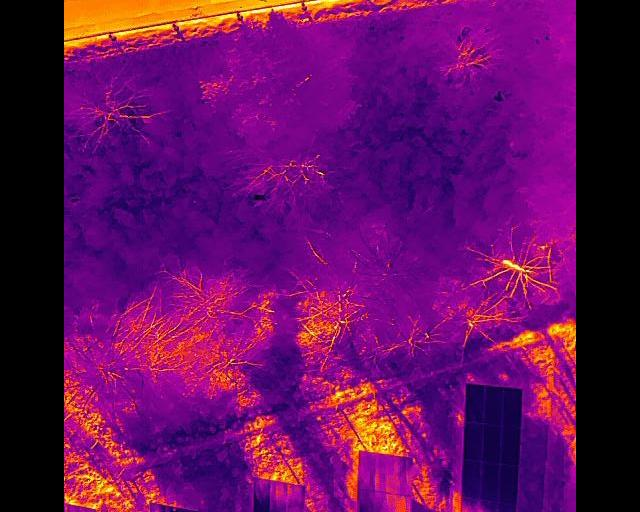Shadowing: (481, 460, 501, 500), (465, 383, 486, 421), (375, 454, 396, 492), (501, 423, 520, 464), (463, 419, 483, 457), (461, 458, 481, 496), (484, 422, 504, 460), (394, 455, 412, 495), (499, 464, 518, 501), (487, 385, 505, 422), (505, 388, 523, 423), (359, 453, 376, 489), (269, 480, 287, 512), (253, 479, 268, 512), (287, 485, 305, 512), (356, 488, 376, 512), (375, 491, 395, 512), (393, 493, 411, 512), (461, 495, 479, 512), (497, 500, 518, 512), (479, 499, 498, 512), (150, 502, 166, 512), (64, 504, 81, 512)
